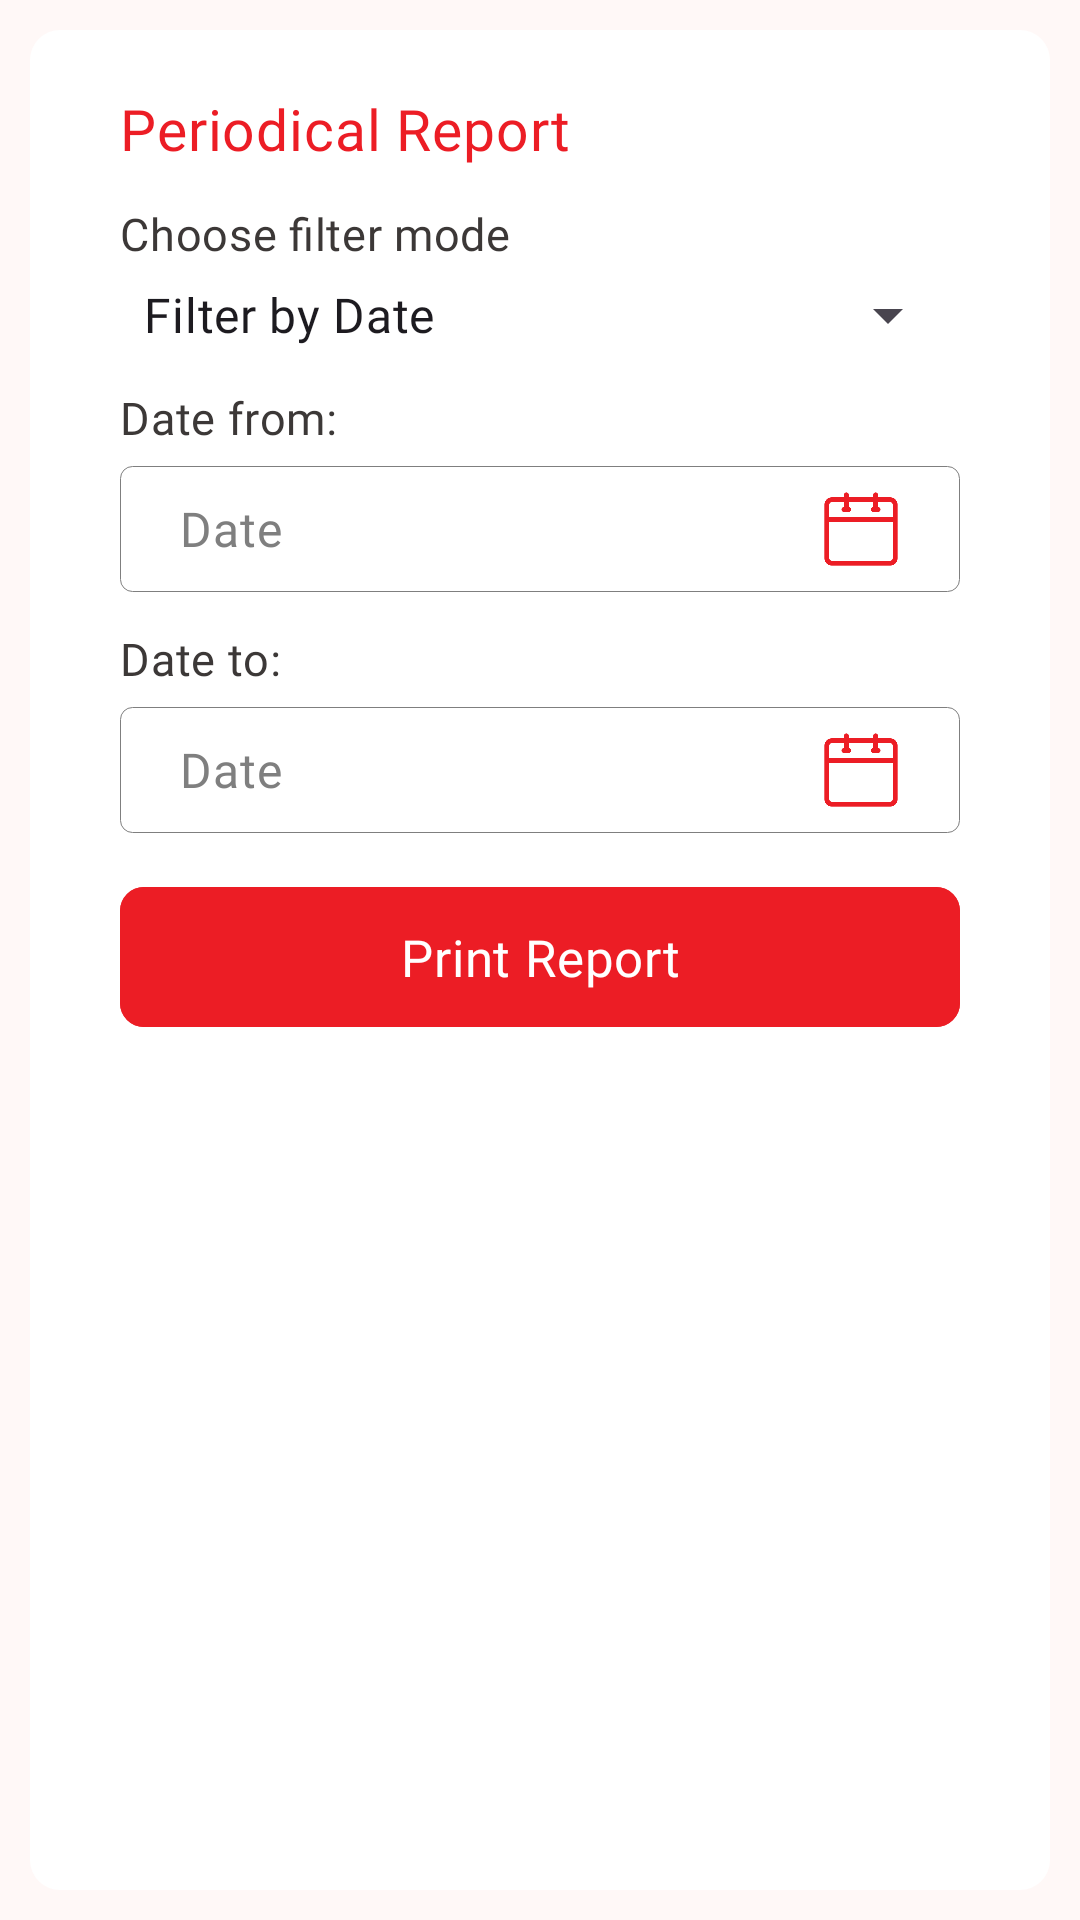

Point at icon controls on the screen. Image size 1080w x 1920h, points as (x,y).
calendar: (861,529), (861,770)
